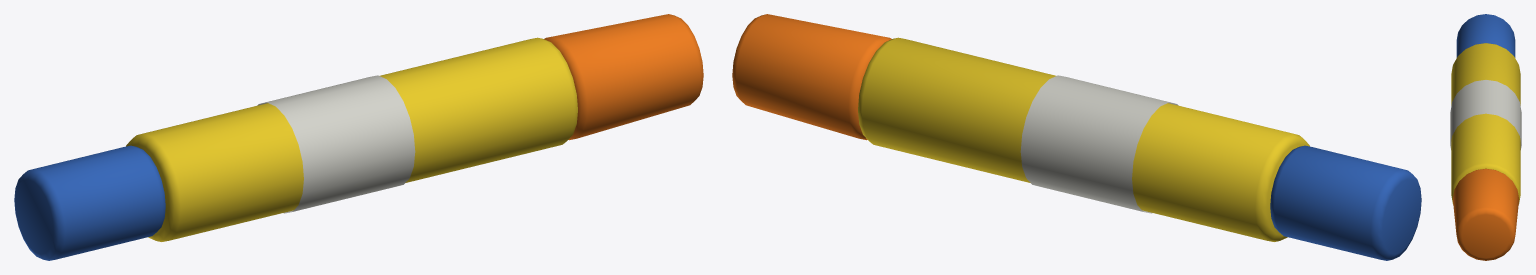
File: adren.glb
The picture shows the model from 3 angles, left to right: view 1: azimuth 30°, elevation 25°; view 2: azimuth 150°, elevation 25°; view 3: azimuth 270°, elevation 25°; orthographic projection. The views are drawn at different scales.
Visible parts, largest first — view 1: body, cap.002, window, tip.004; view 2: body, cap.002, window, tip.004; view 3: body, tip.004, window, cap.002.
Boxes of the visible parts, box(x1,y1,x2,y2) form: body: box(126, 37, 577, 241); cap.002: box(14, 145, 165, 260); window: box(257, 75, 415, 213); tip.004: box(544, 14, 703, 140); body: box(858, 37, 1309, 241); cap.002: box(1270, 145, 1421, 260); window: box(1020, 75, 1178, 213); tip.004: box(732, 14, 891, 140); body: box(1451, 43, 1520, 204); tip.004: box(1453, 168, 1518, 260); window: box(1450, 80, 1521, 149); cap.002: box(1456, 14, 1515, 57).
Bounding box in the file's own units: 0.175 × 0.0266 × 0.0266.
